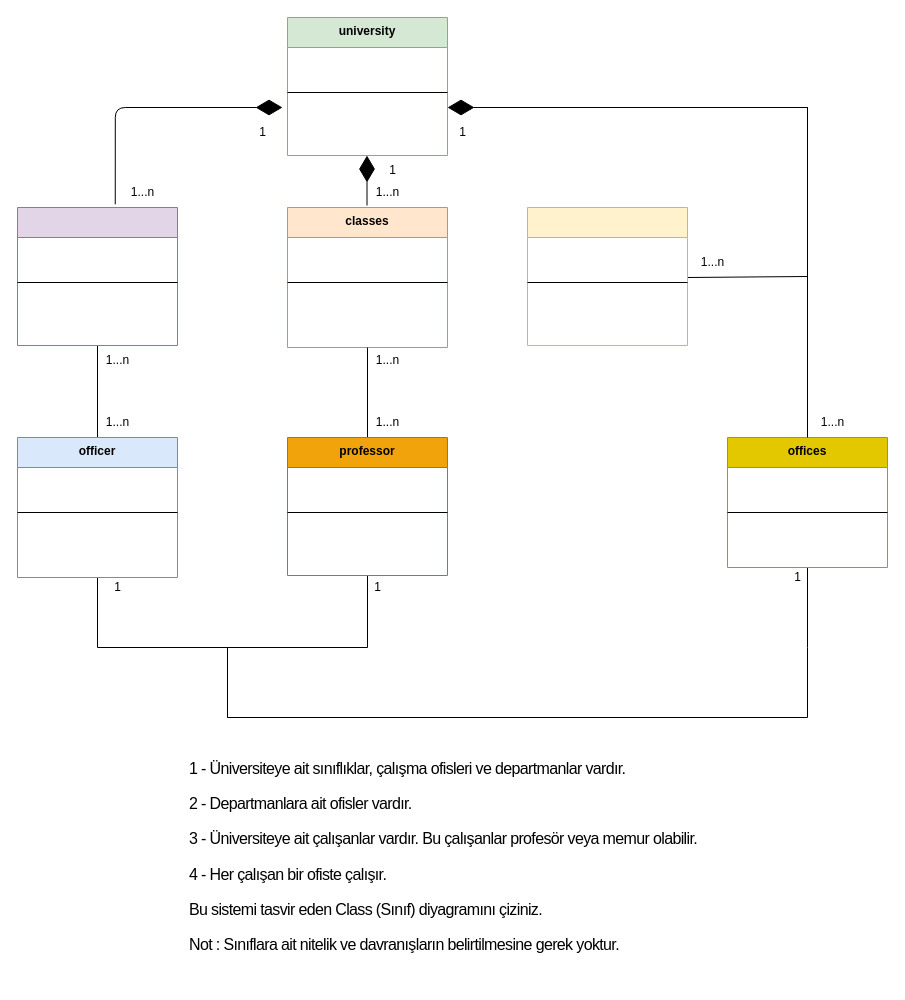
The diagram is 905 pixels wide and 1000 high, and some of its shapes have lost their labels. The box of each missing label's shape, as (x1, y1, x2, y2) in pixels:
departments: (526, 206, 688, 346)
Epmloyee: (16, 206, 178, 346)
